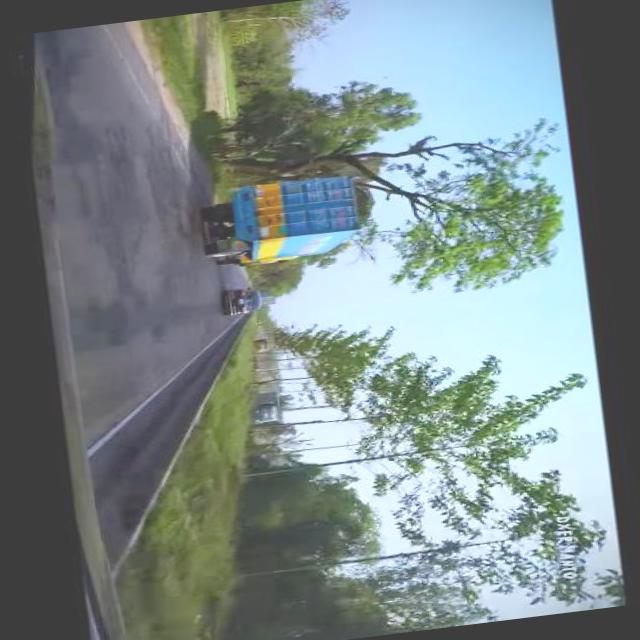bus: (246, 386, 284, 424)
car: (220, 283, 265, 316)
truck: (196, 170, 367, 272), (254, 335, 272, 352)
